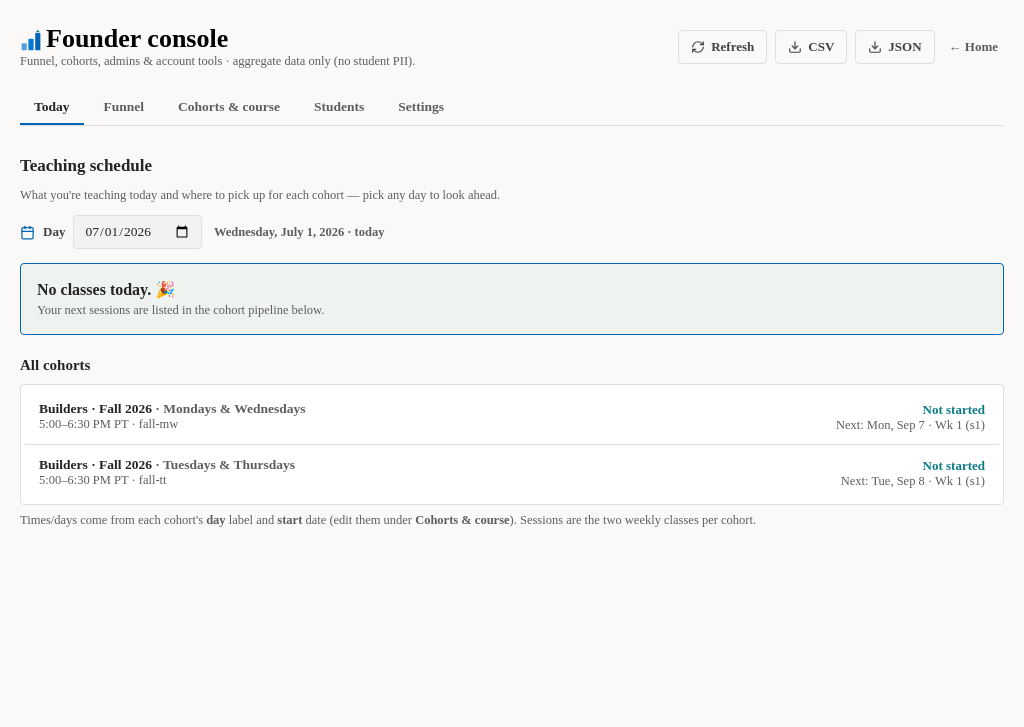
Test case: FounderDashboard (account-gated) › 'The funnel' renders as an HTML list — a small non-zero stage shows its label + count·% cleanly (no chart overlap)
Click the button "Funnel" at (124,106), box x1=104 y1=99 x2=144 y2=114
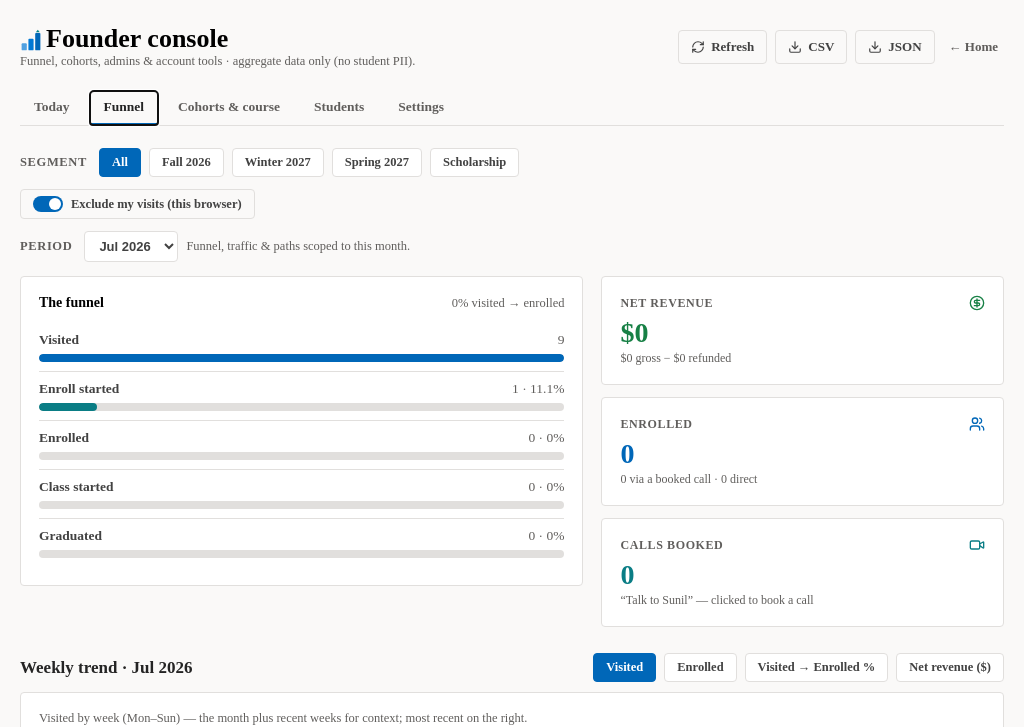
Now the text "The funnel" is shown, box x1=39 y1=295 x2=104 y2=311
Now the text "Enroll started" is shown, box x1=39 y1=381 x2=119 y2=397
Now the text "1 · 11.1%" is shown, box x1=512 y1=381 x2=564 y2=397
